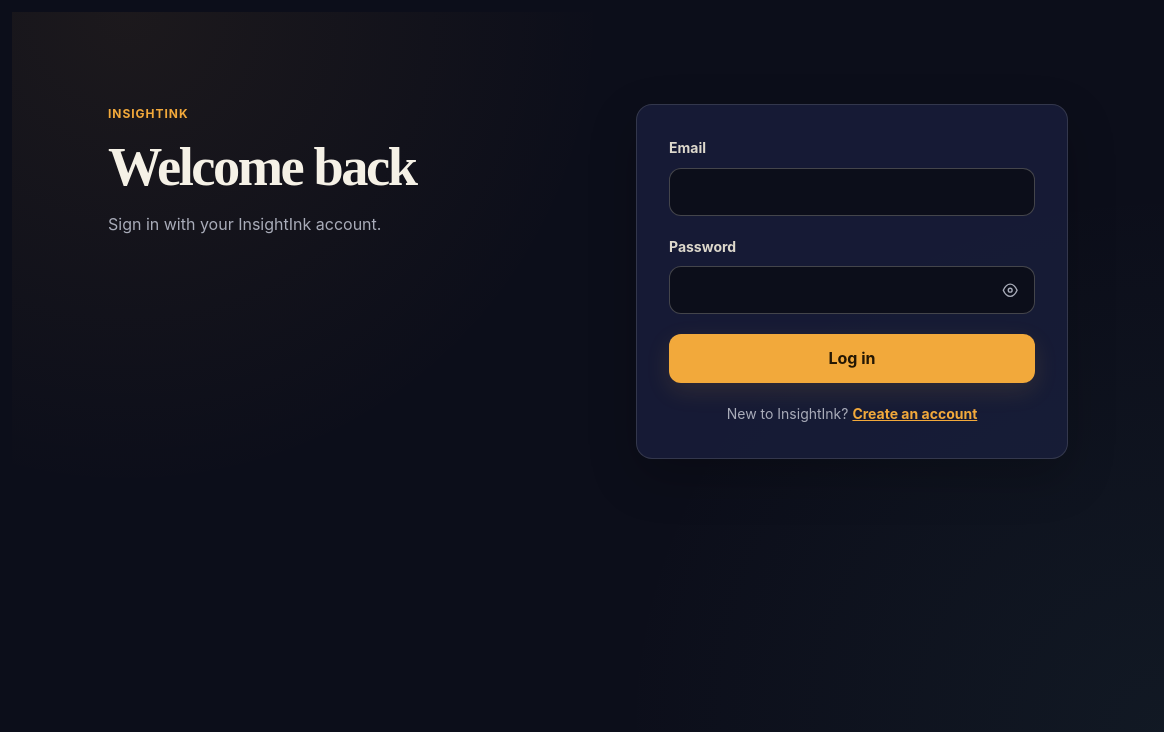
Test: LoginPage return location › returns to the full protected path including query and hash after login
The width and height of the screenshot is (1164, 732).
Type "reader@example.com" into the field labelled "Email" at (852, 192), box [669,168,1035,216]
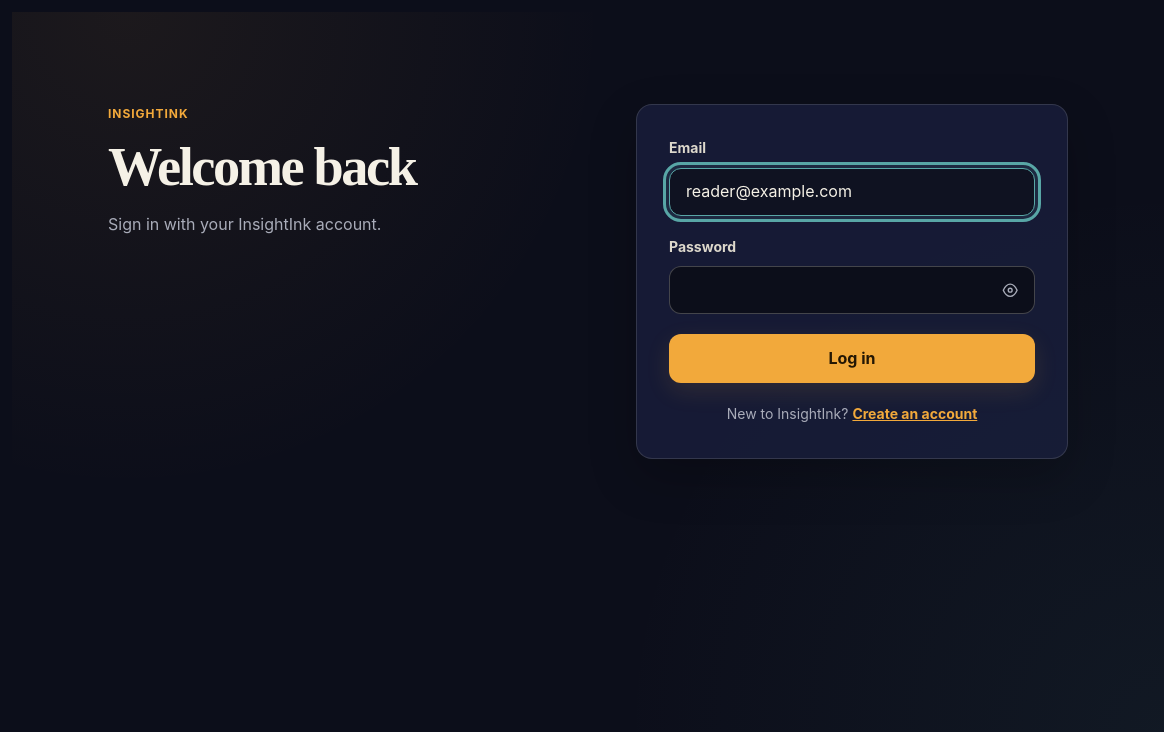
Type "password" into the password field labelled "Password" at (852, 290), box [669,266,1035,314]
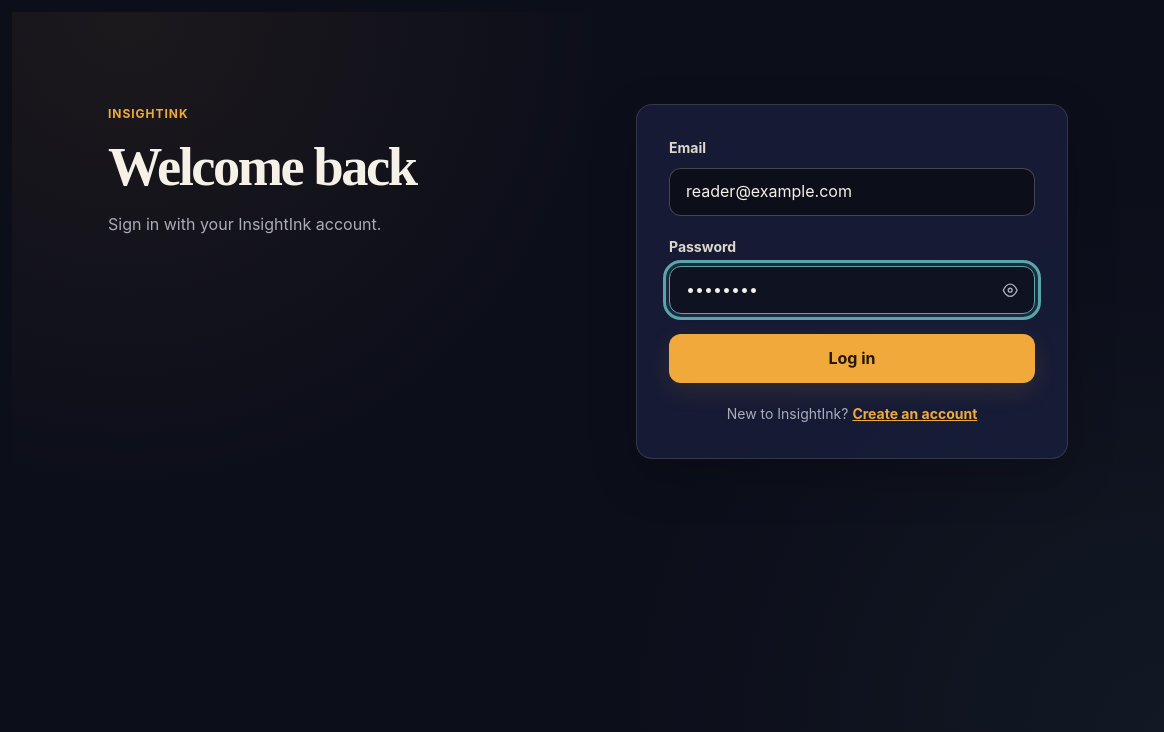
Click the button "Log in" at (852, 359), box [669,334,1035,383]
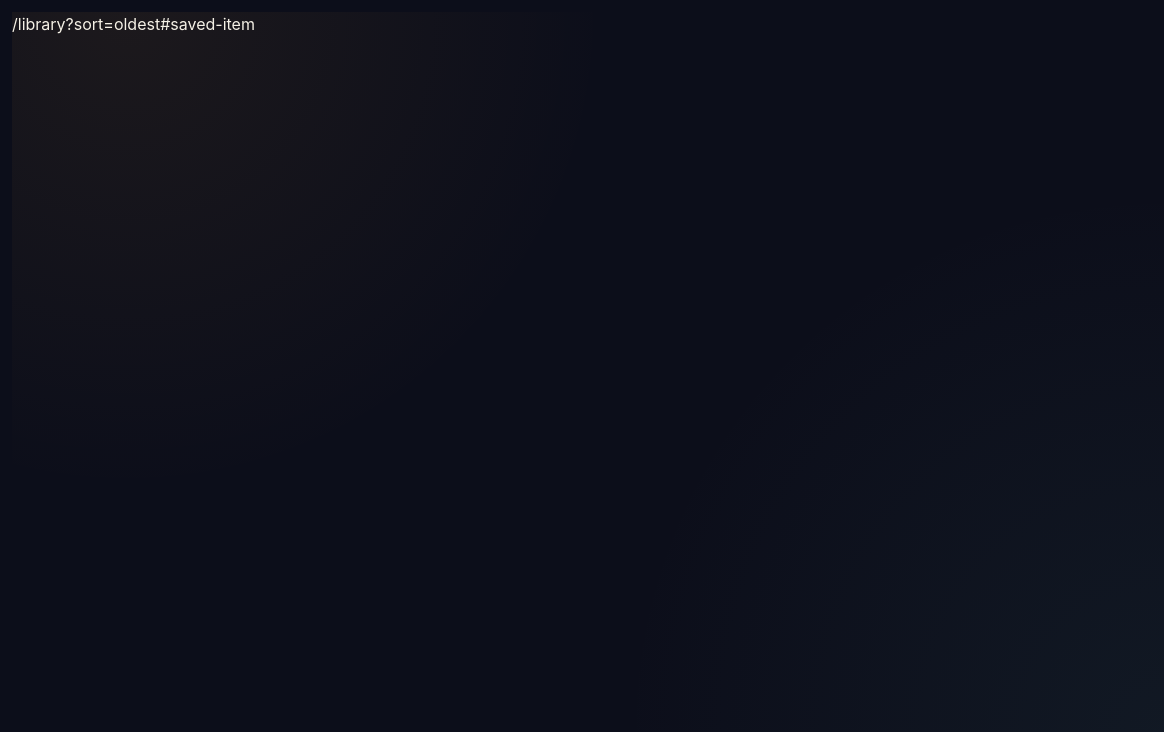
Expected: the text with test id "destination" reads "/library?sort=oldest#saved-item", [12,14,255,34]
